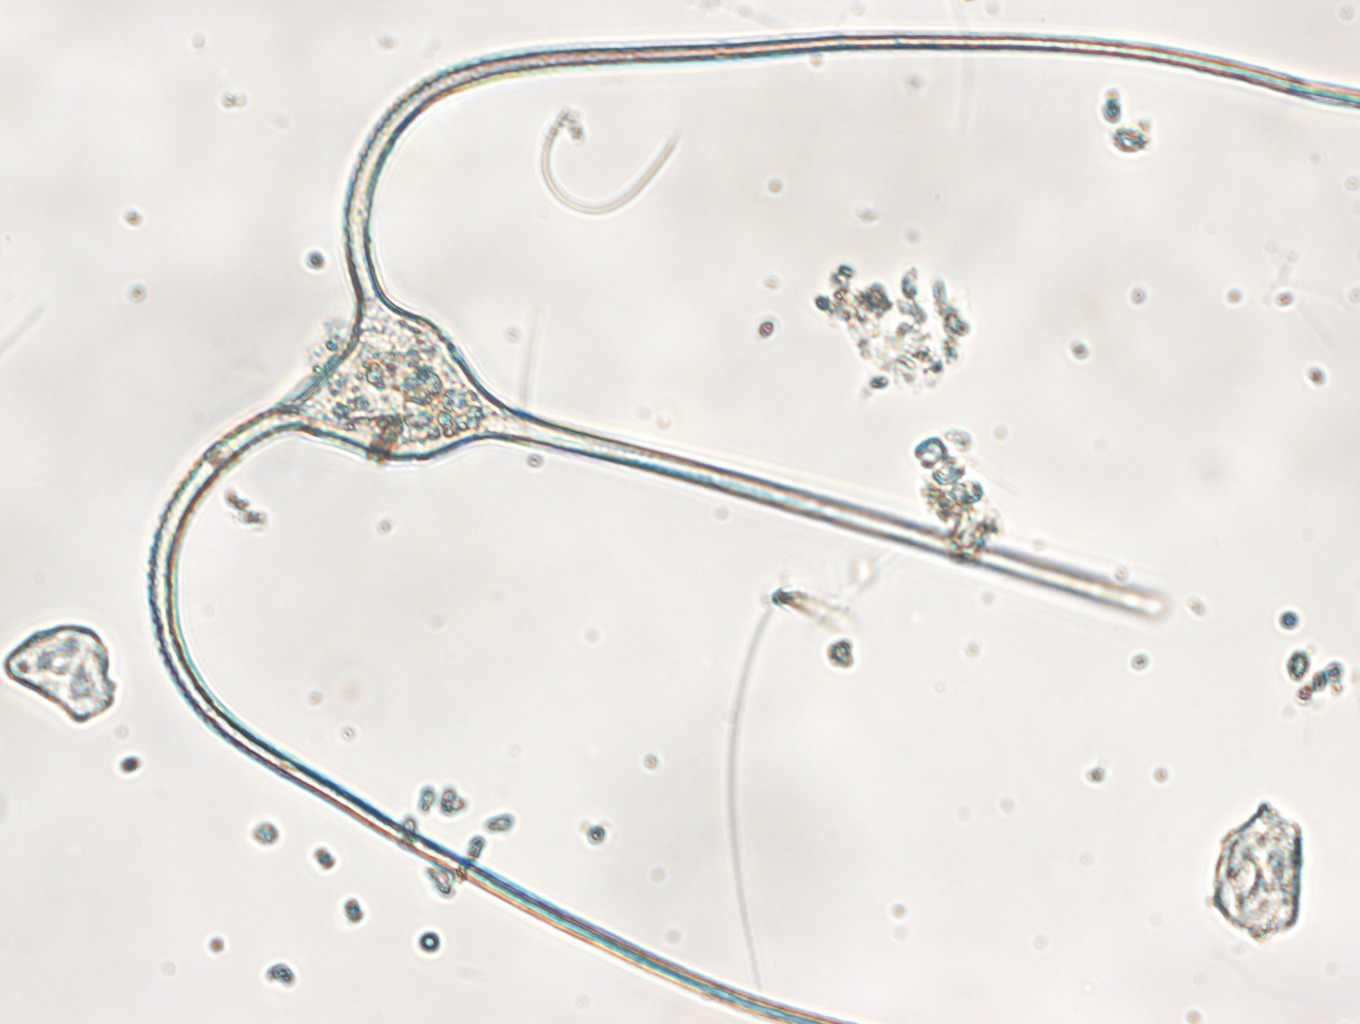ceratium trichoceros: (149, 30, 1360, 1024)
